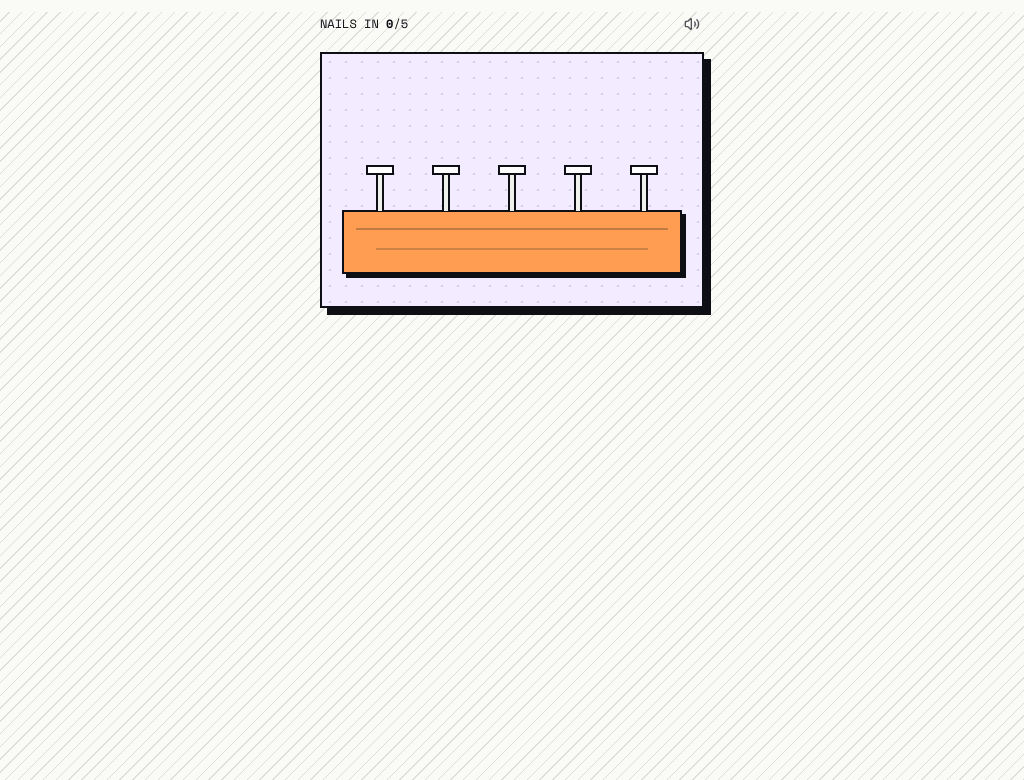
Scenario: Hammer lab › a keyboard hit (a click with no pointer) still swings the mallet
Click the button named "Nail 3, 3 hits left". click: (512, 179)
box: [492, 147, 532, 211]
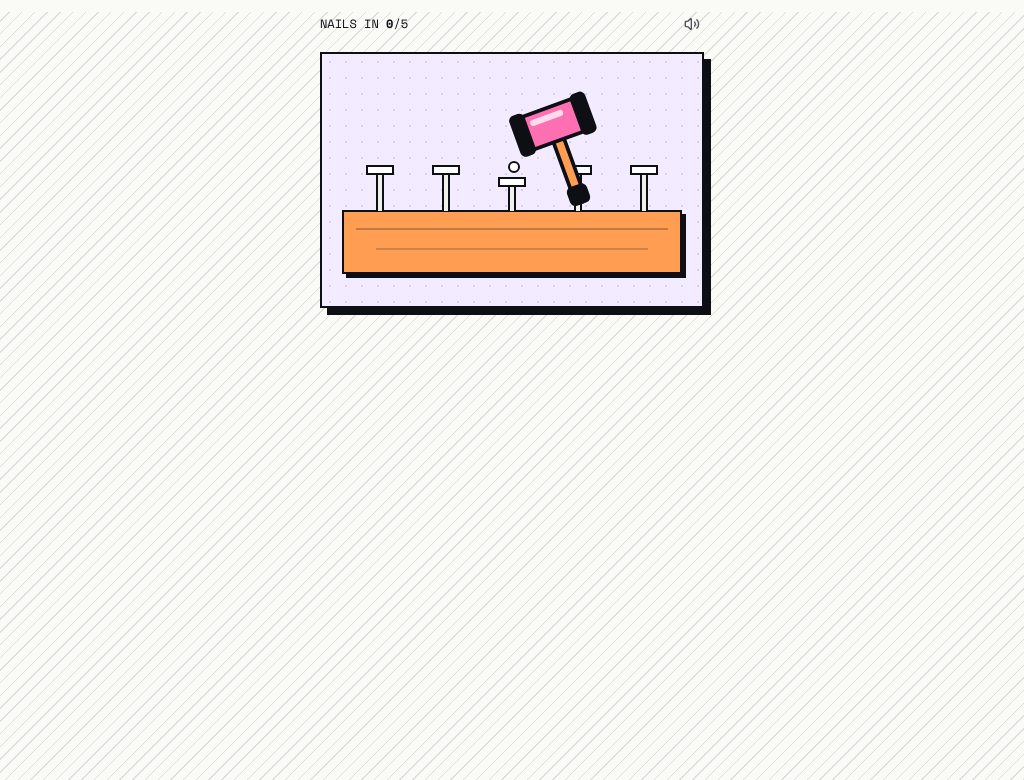
Check: the element with class "hammer-lab-swing" is shown, box [482, 67, 640, 226]
